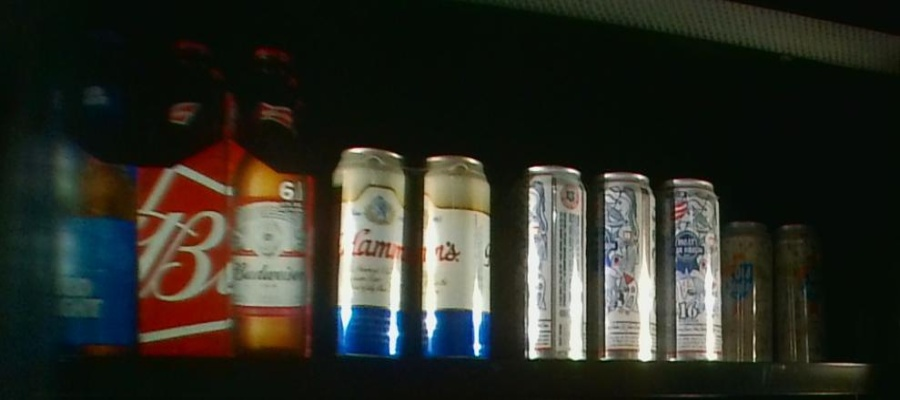bottle: (137, 37, 316, 355), (1, 27, 136, 357), (508, 163, 724, 360), (324, 146, 493, 359), (729, 217, 833, 362)
